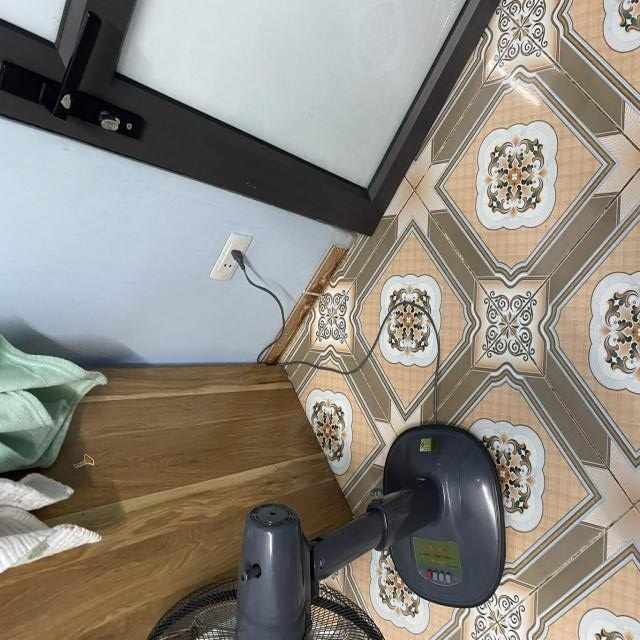outlet: (209, 232, 252, 282)
